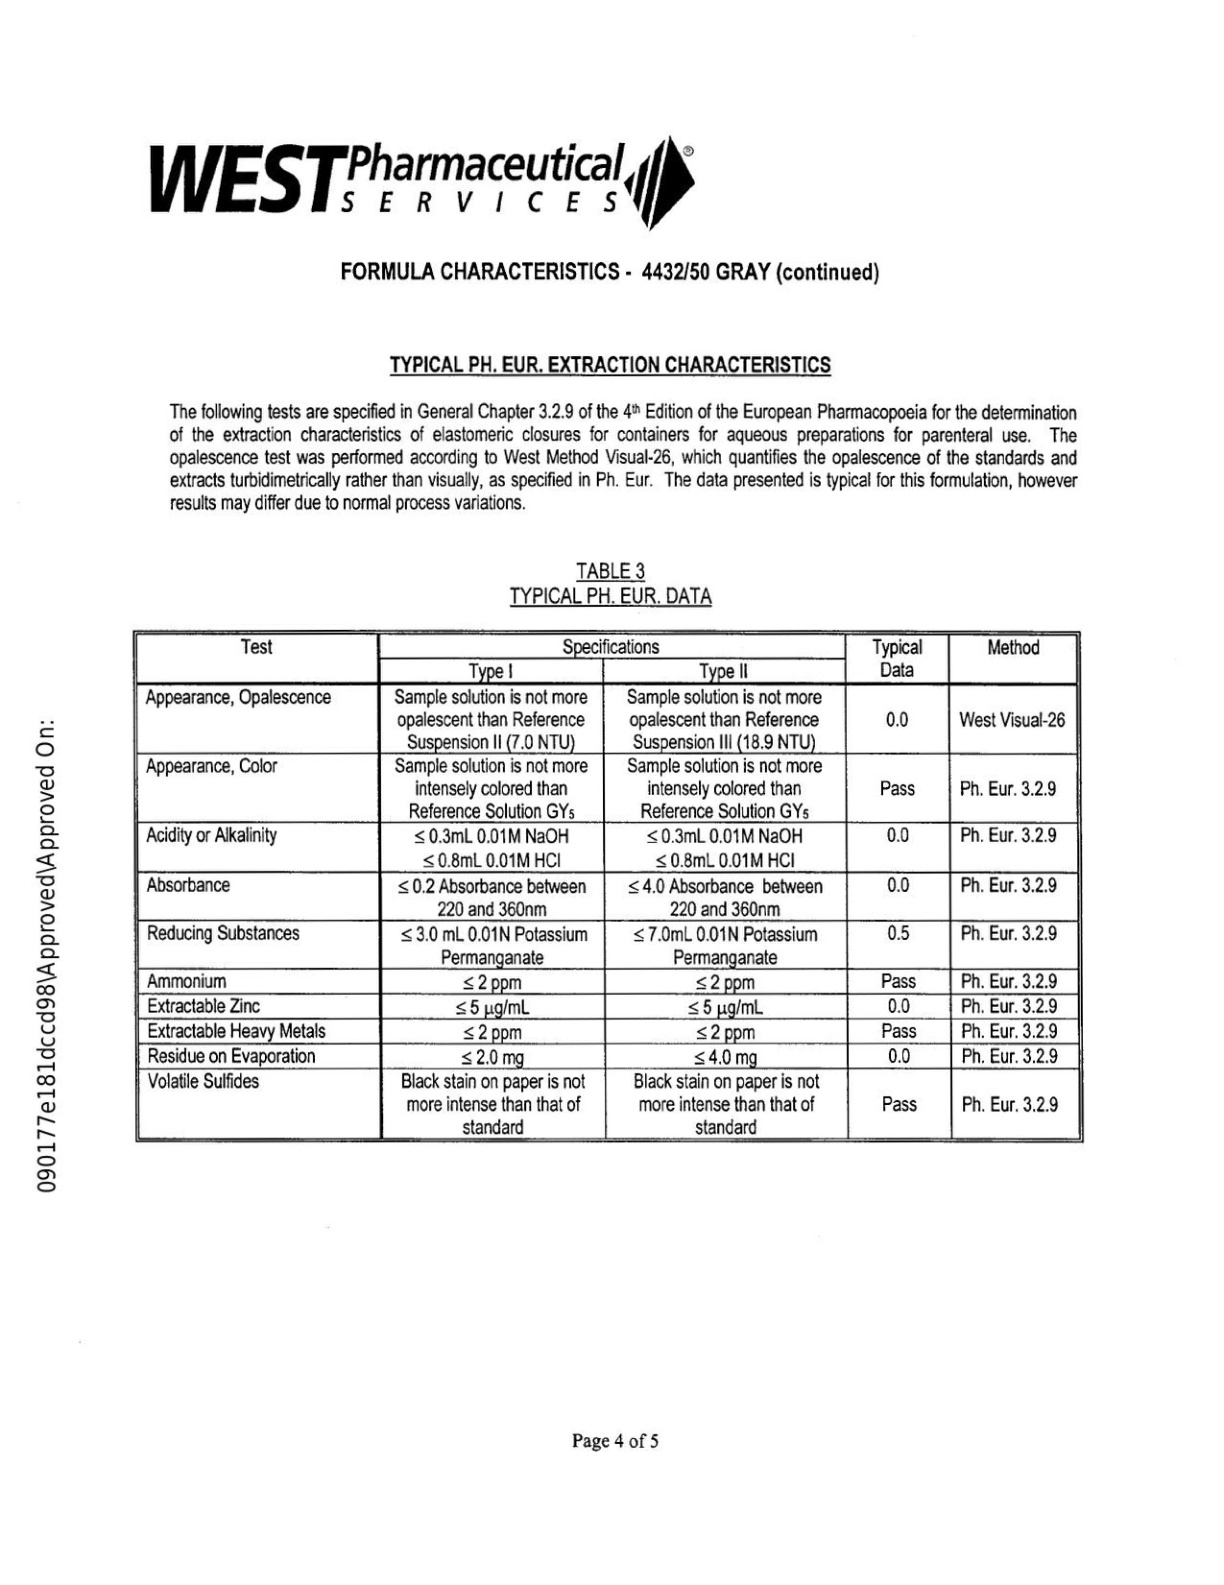merged_cells: (130, 627, 1086, 1144)
